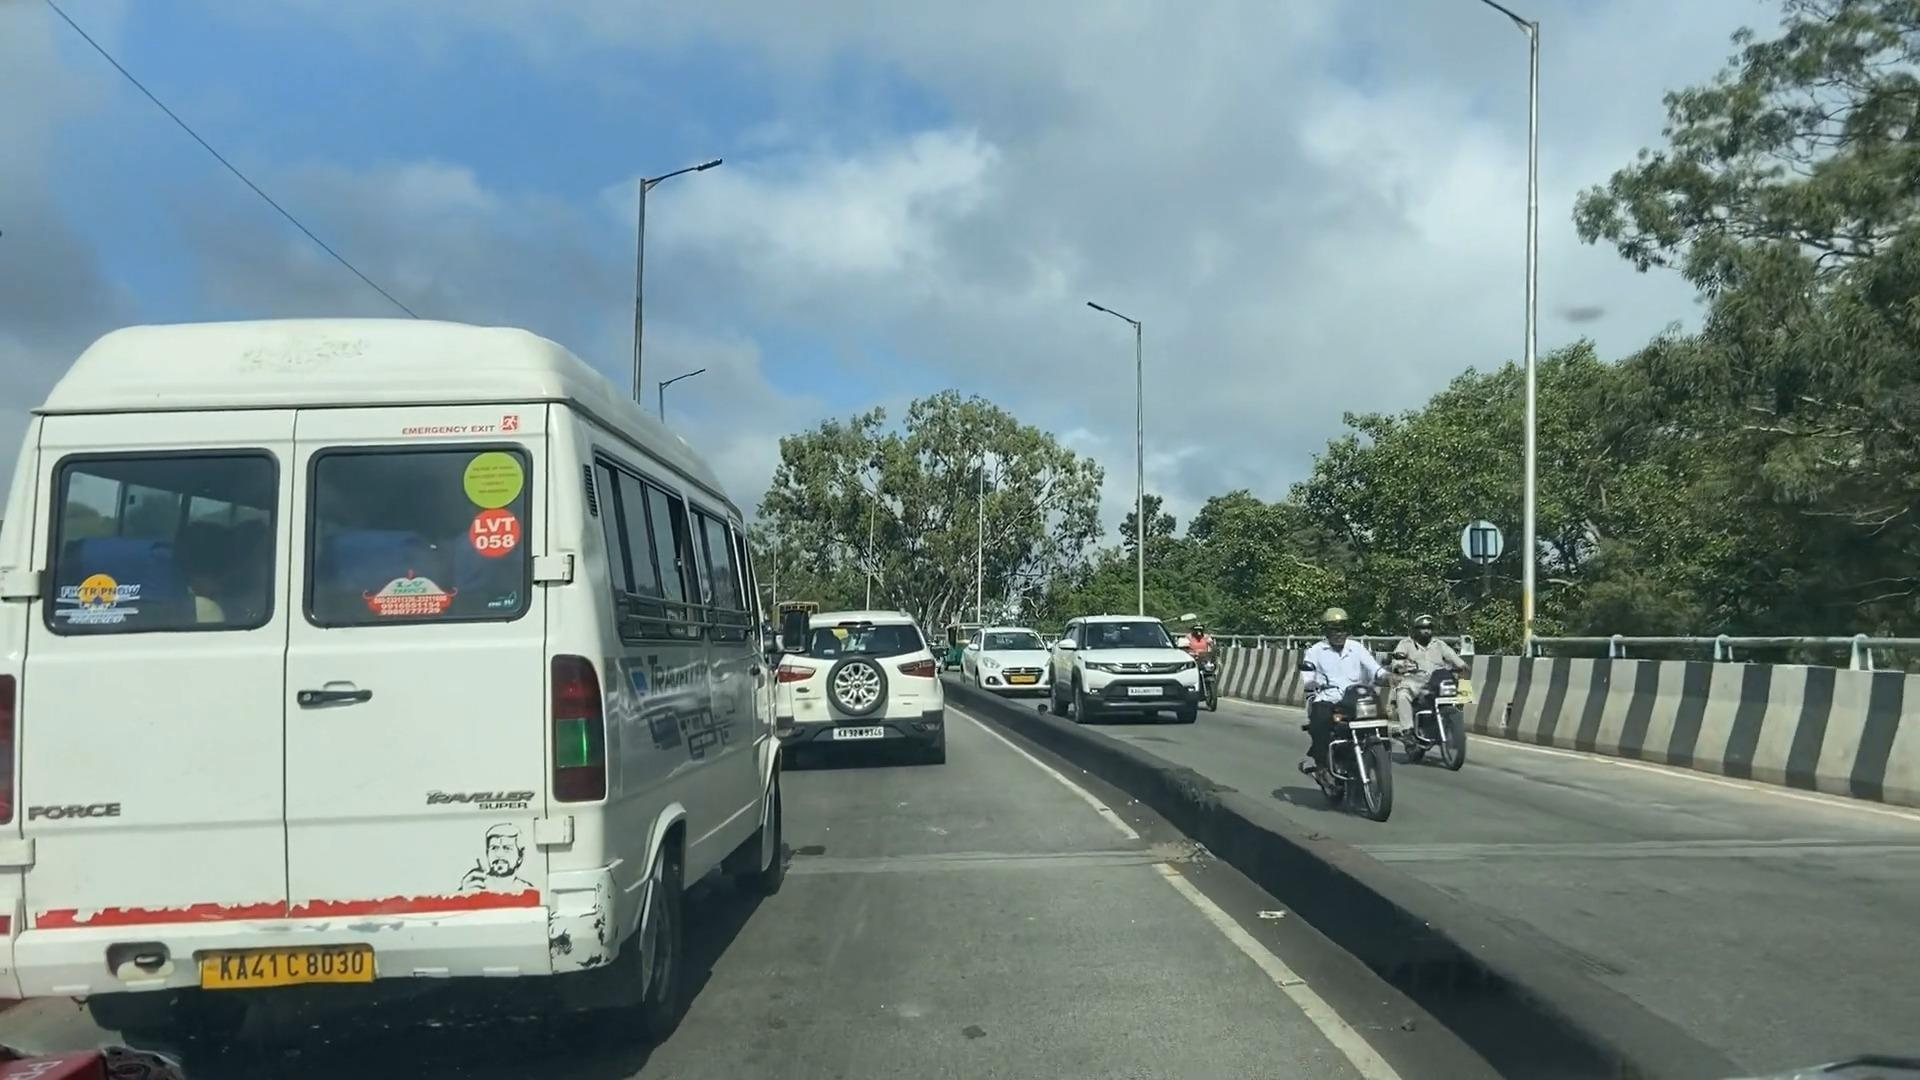HMV: (4, 313, 765, 1038)
LMV: (773, 616, 943, 756)
SpeedBump: (789, 831, 1201, 880)
